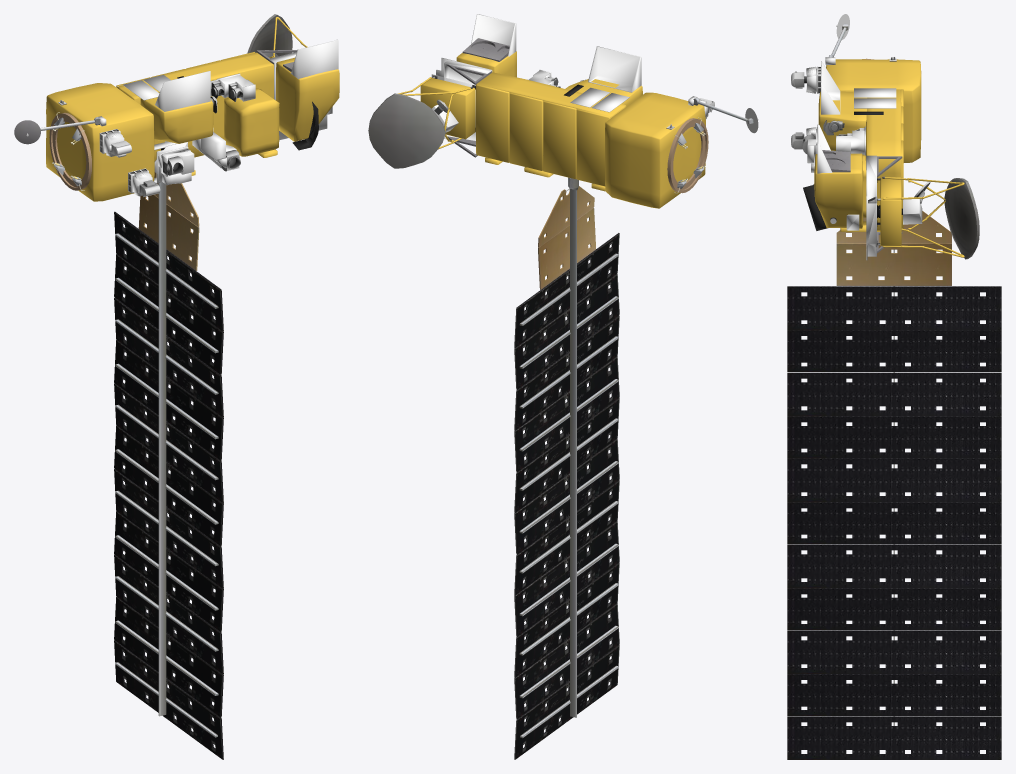
The model's file is aqua.glb.
The picture shows the model from 3 angles, left to right: view 1: azimuth 30°, elevation 25°; view 2: azimuth 150°, elevation 25°; view 3: azimuth 270°, elevation 25°; orthographic projection. The views are drawn at different scales.
Parts seen in each view (by area): view 1: solar_1, bus_2, bus_3, bus_5, inst_1, bus_4; view 2: solar_1, bus_2, bus_5, bus_3, bus_4; view 3: solar_2, bus_2, solar_1, bus_3, bus_5, inst_1, bus_1.
Boxes of the visible parts, box(x1,y1,x2,y2) form: solar_1: box(114, 172, 223, 759); bus_2: box(46, 17, 339, 201); bus_3: box(98, 39, 338, 196); bus_5: box(14, 14, 297, 144); inst_1: box(58, 50, 278, 196); bus_4: box(49, 112, 91, 190); solar_1: box(514, 177, 619, 759); bus_2: box(398, 51, 705, 208); bus_5: box(368, 38, 758, 168); bus_3: box(431, 14, 711, 140); bus_4: box(667, 117, 708, 193); solar_2: box(787, 287, 1001, 759); bus_2: box(814, 59, 964, 257); solar_1: box(787, 211, 1001, 754); bus_3: box(795, 57, 922, 260); bus_5: box(822, 14, 979, 259); inst_1: box(791, 56, 930, 247); bus_1: box(803, 111, 883, 230).
Bounding box in the file's own units: 9.4 × 17.78 × 5.08.
Materials: 11 (4 with a texture image).
